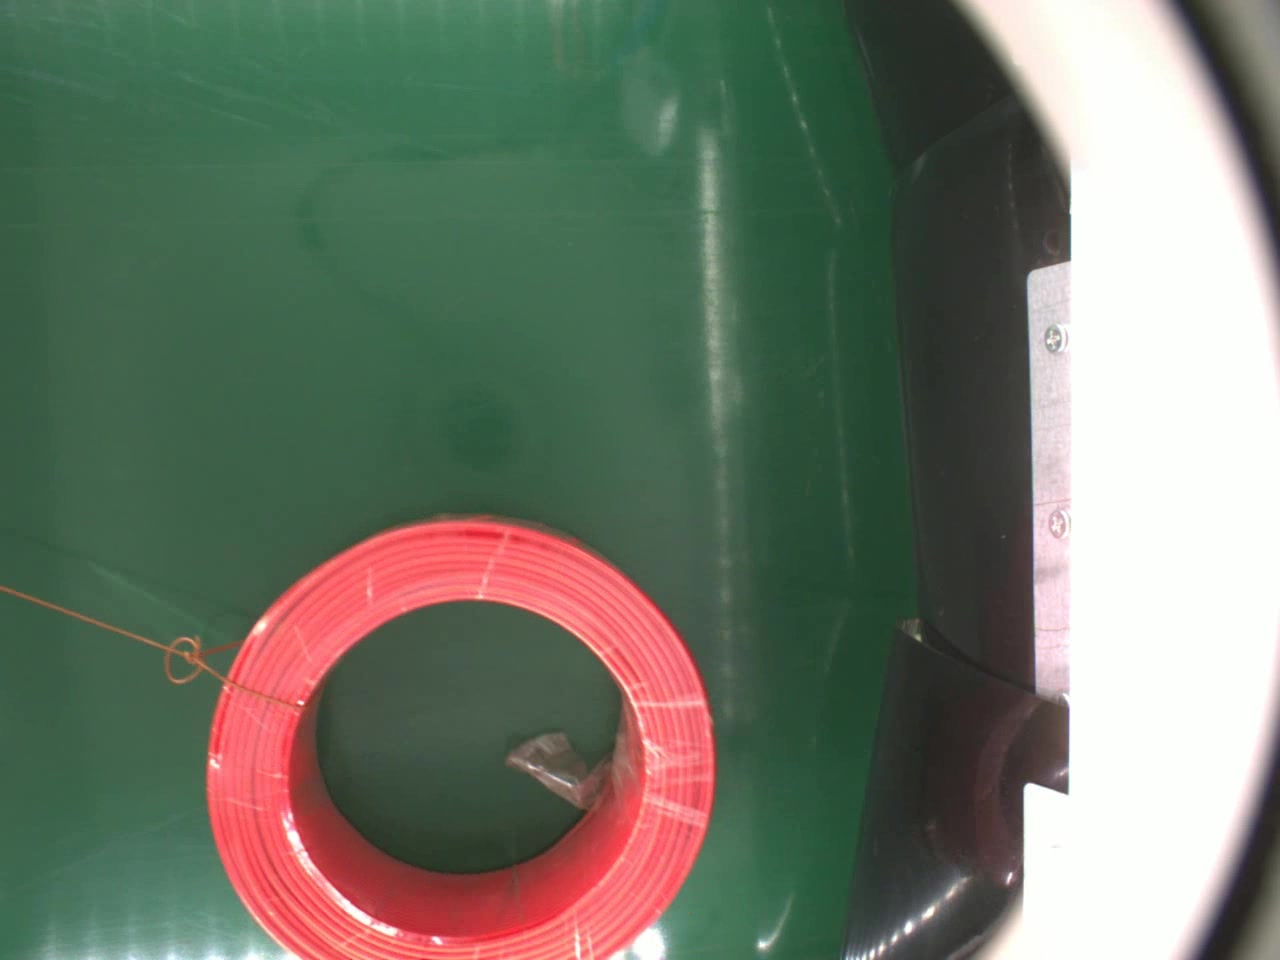red: (194, 513, 720, 960)
